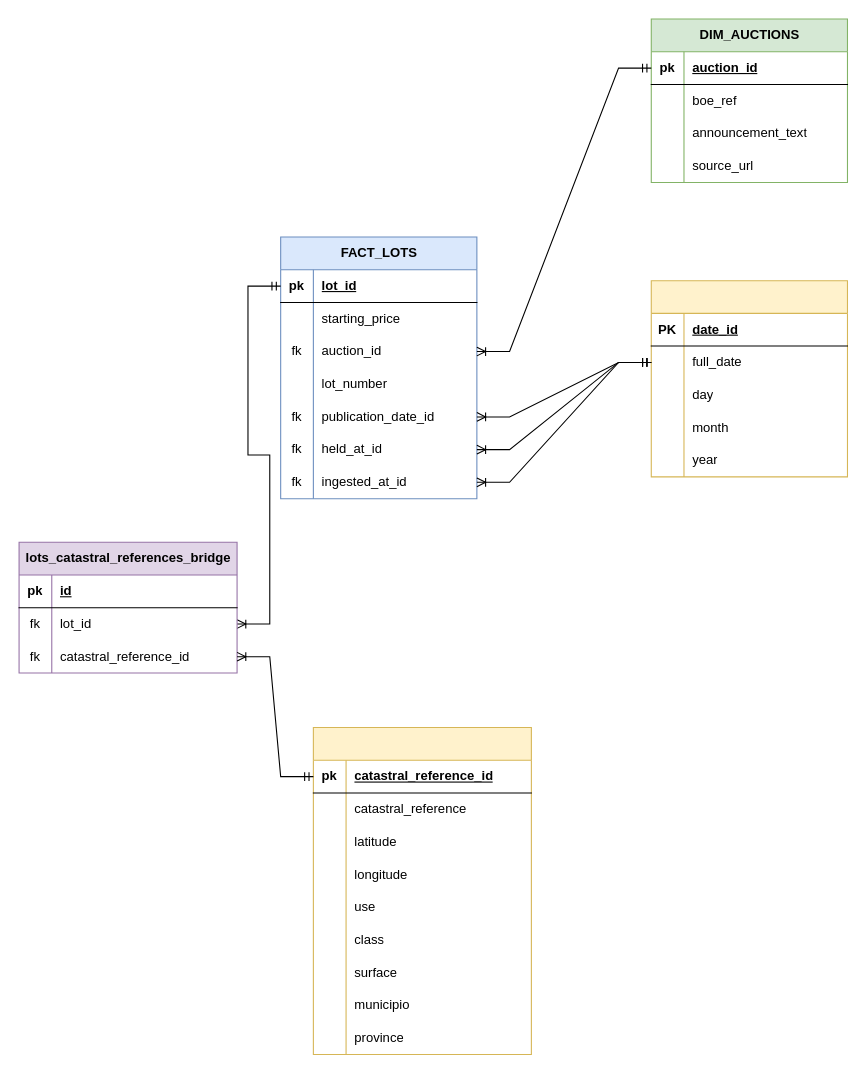
Image size: 867x1074. Some labels were removed from this diagram. The shapes that lost their labels are listed below. From the top down, each one's box as (x1, y1, x2, y2) in pixels, then its label:
(650, 280, 847, 477): DIM_DATE
(312, 726, 531, 1055): DIM_CATASTRAL_REFERENCES
